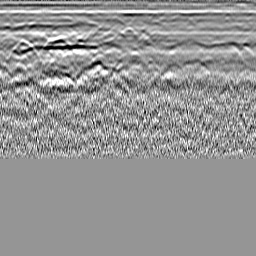cavity: (119, 25, 139, 40)
